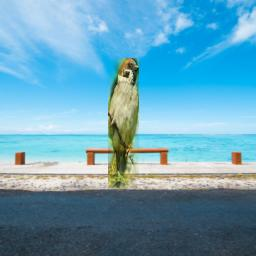Sparrow: (108, 58, 139, 188)
